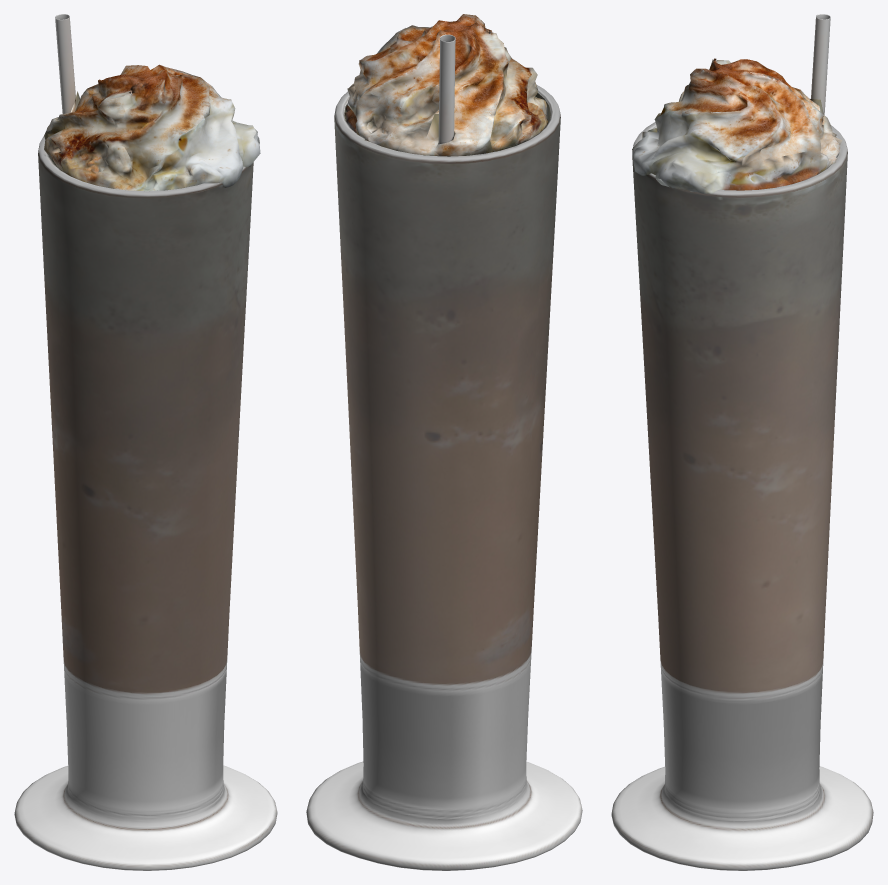
File: Latte.FBX
3 views of the same model, side by side, from view 1: azimuth 30°, elevation 25°; view 2: azimuth 150°, elevation 25°; view 3: azimuth 270°, elevation 25° (orthographic). The views are drawn at different scales.
Visible parts, largest first — view 1: Object001, 015; view 2: Object001, 015; view 3: Object001, 015.
Boxes of the visible parts, x1,y1,x2,y2 form: Object001: [14, 136, 277, 870]; 015: [44, 14, 260, 191]; Object001: [306, 84, 582, 870]; 015: [344, 14, 550, 156]; Object001: [611, 122, 873, 870]; 015: [632, 14, 842, 193].
Size of the model in its own units: 3734 by 12238 by 3732.
